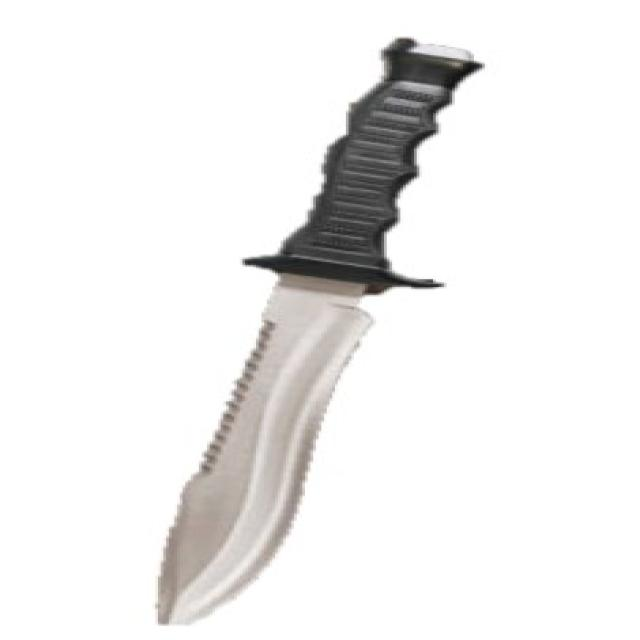knife: (146, 25, 490, 633)
